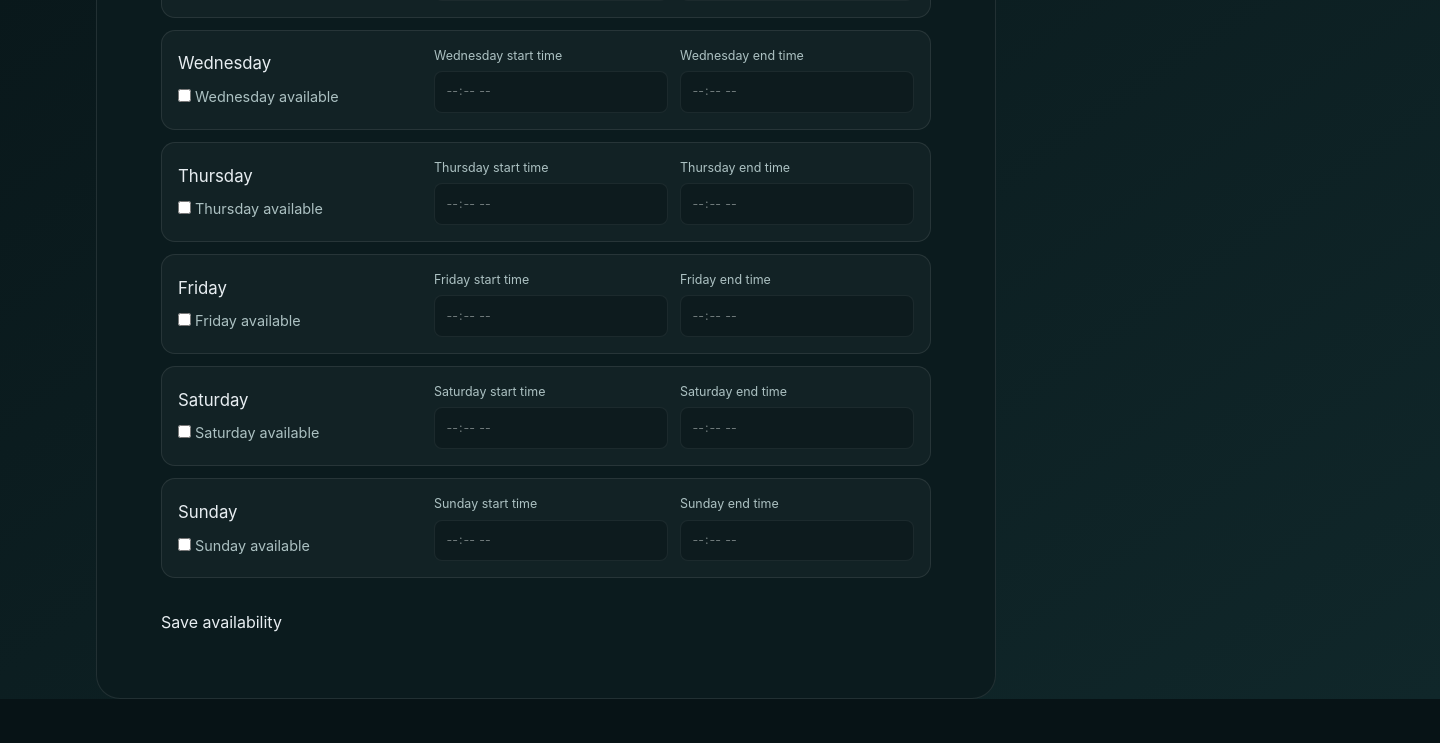
Test case: availability UI › lets an employee view and save their recurring availability
(page scrolled)
Click the button "Save availability": [221, 622] box left=161, top=610, right=282, bottom=634
(page scrolled)
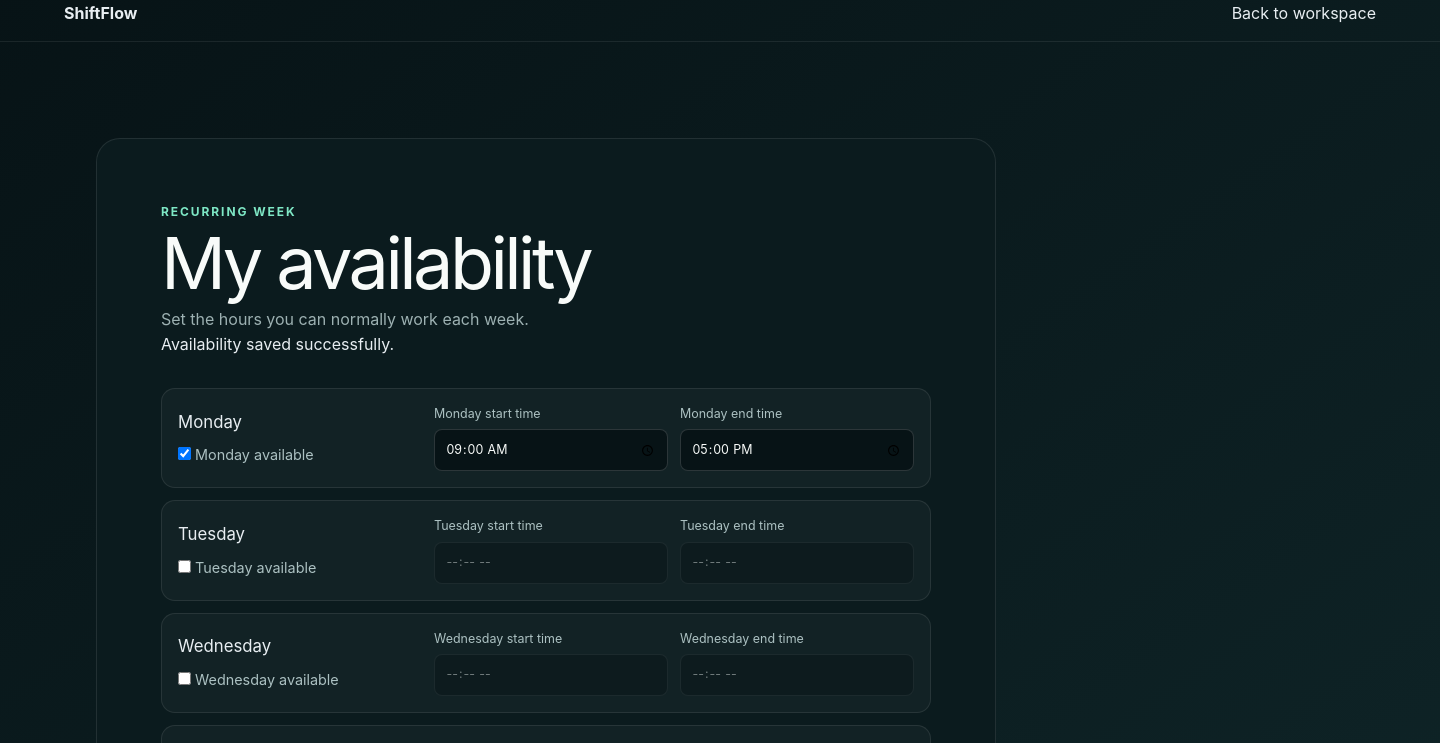
Check: the text "Availability saved successfully." is shown, box left=161, top=334, right=394, bottom=354
